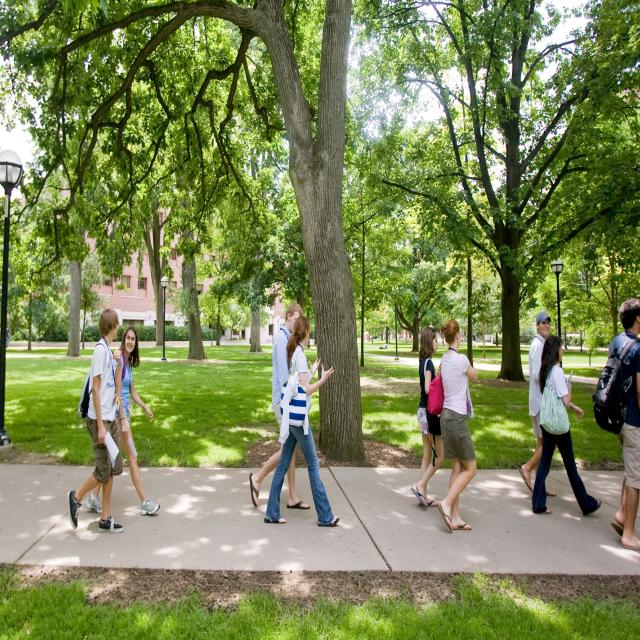body: (262, 314, 341, 528), (85, 324, 161, 518), (66, 307, 127, 536), (248, 301, 311, 511), (530, 334, 602, 517), (591, 296, 640, 554), (426, 317, 478, 532), (517, 310, 558, 498), (410, 326, 444, 510), (5, 324, 10, 348), (78, 330, 82, 354), (472, 335, 478, 350), (461, 332, 467, 344), (65, 332, 69, 347), (440, 331, 444, 345), (379, 343, 388, 349)
